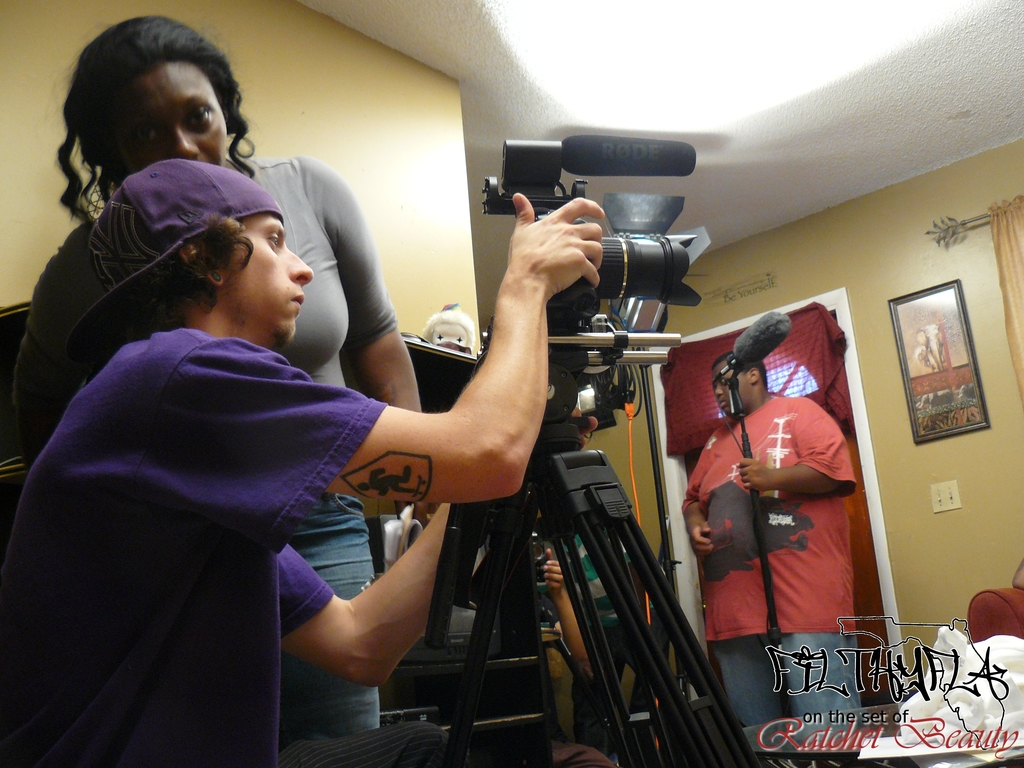Person: (0, 153, 608, 768), (674, 345, 866, 728)
